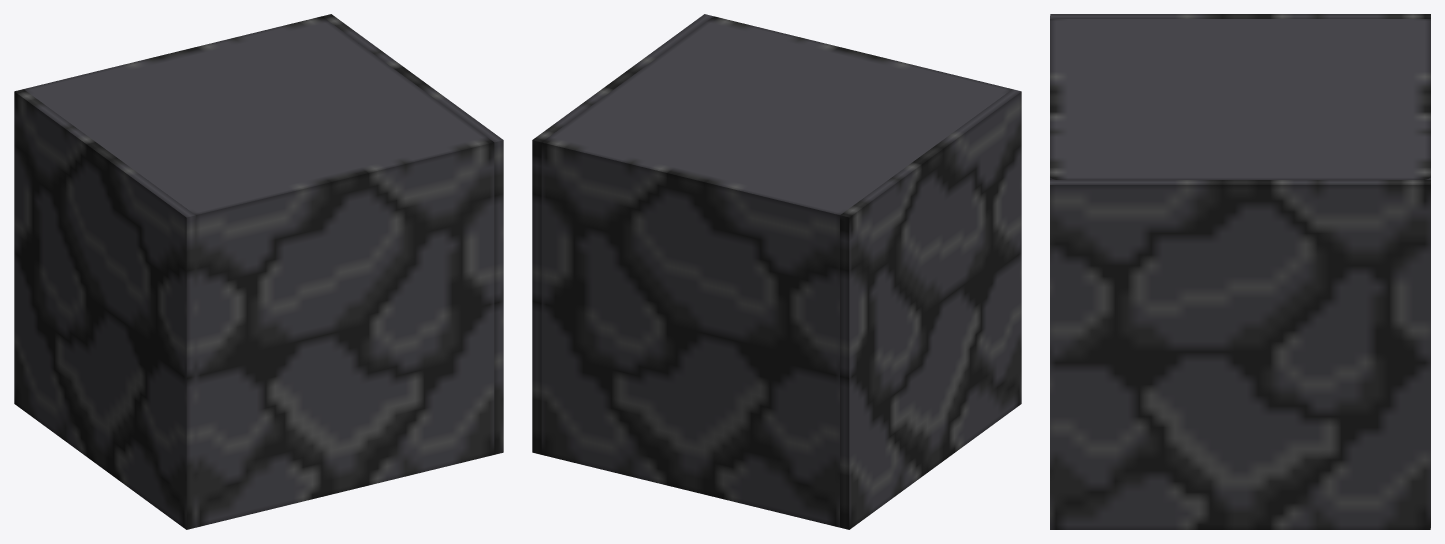
Rendered from Rock Wall.dae.
3 renders of one model, left to right at view 1: azimuth 30°, elevation 25°; view 2: azimuth 150°, elevation 25°; view 3: azimuth 270°, elevation 25°, orthographic. The views are drawn at different scales.
Parts seen in each view (by area): view 1: Rock Wall; view 2: Rock Wall; view 3: Rock Wall.
Boxes of the visible parts, <box> form: Rock Wall: <box>14,14,503,529</box>; Rock Wall: <box>532,14,1021,529</box>; Rock Wall: <box>1050,14,1430,529</box>.
Bounding box in the file's own units: 4.08 × 3.84 × 3.84.
Materials: 1 (1 with a texture image).
